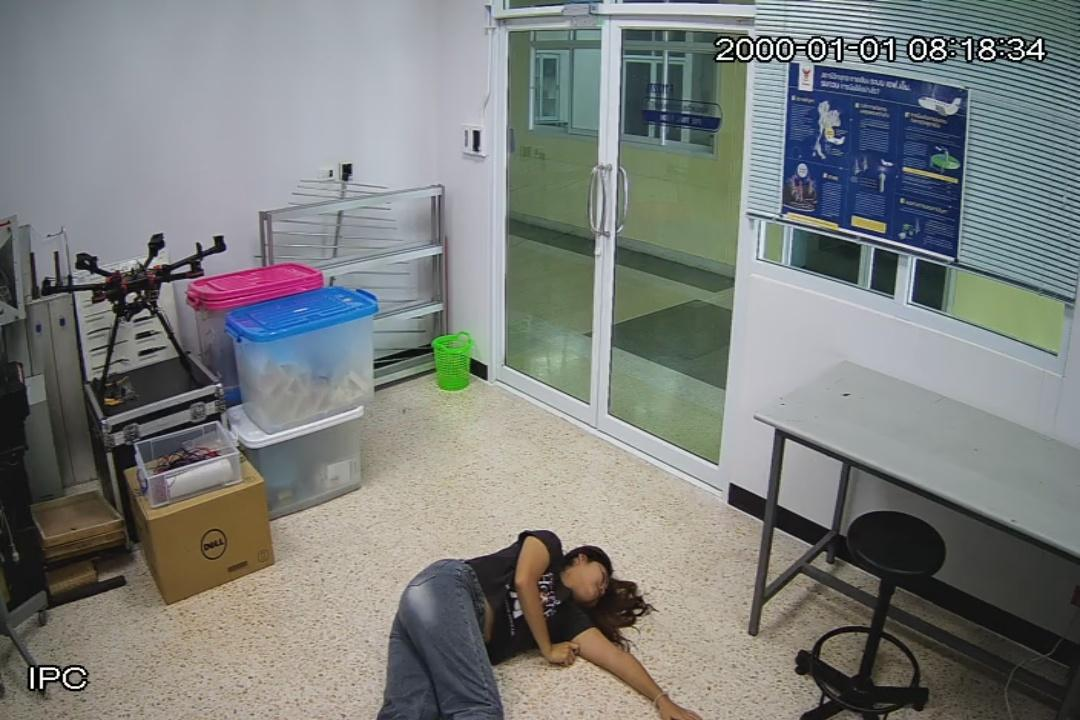fall: (376, 527, 706, 720)
